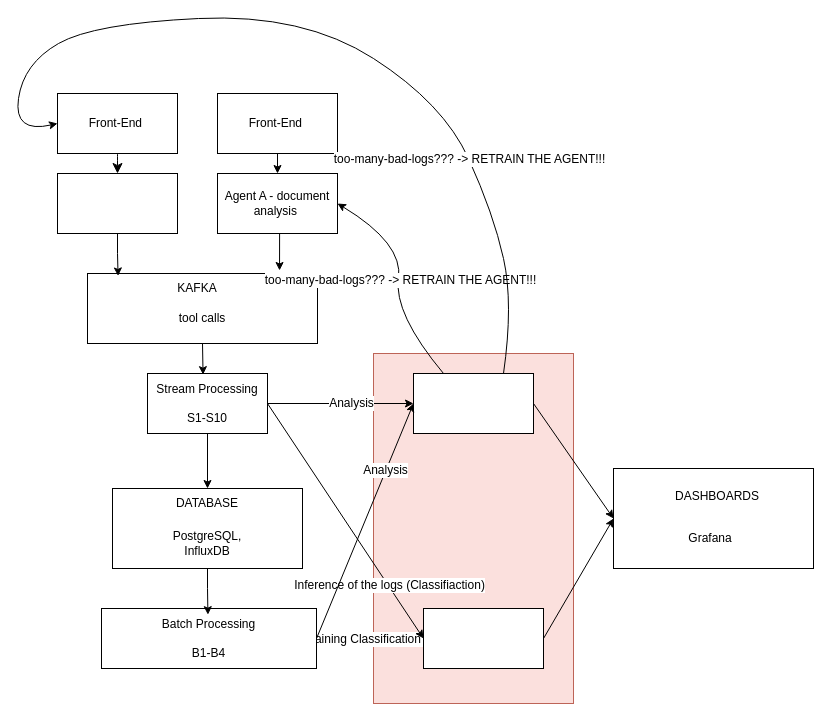
Image size: 831x721. Some labels were removed from this diagram. Here are the shapes that lost their labels. From the top down, the box of each, then its label:
(56, 172, 178, 234): Agent B - email builder
(412, 372, 534, 434): Analysis + Stats
(422, 608, 544, 668): ML Classifier
